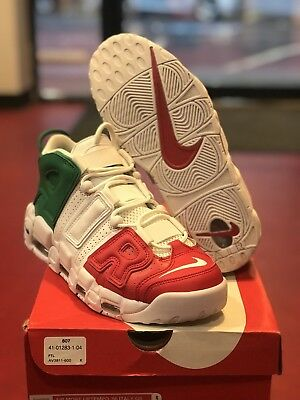Nike Air Uptempo '96 Italy: (21, 124, 232, 328)
